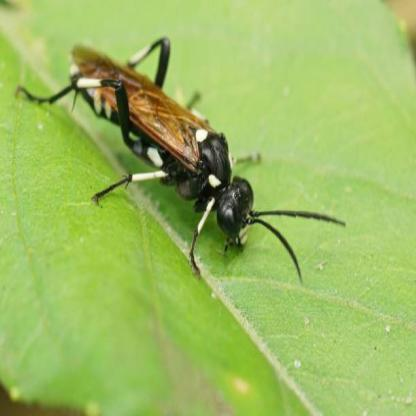sawfly: (17, 27, 351, 288)
